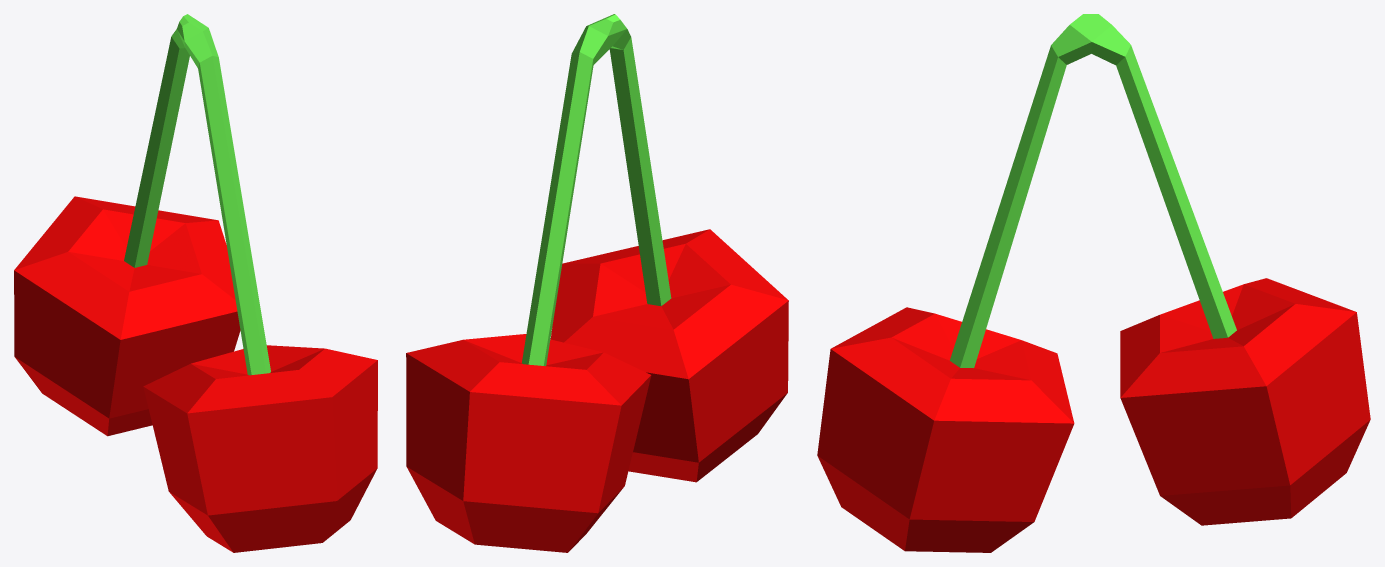
The model's file is cherry03.obj.
The picture shows the model from 3 angles, left to right: view 1: azimuth 30°, elevation 25°; view 2: azimuth 150°, elevation 25°; view 3: azimuth 270°, elevation 25°; orthographic projection. The views are drawn at different scales.
Visible parts, largest first — view 1: Cylinder_Cylinder.002; view 2: Cylinder_Cylinder.002; view 3: Cylinder_Cylinder.002.
Boxes of the visible parts, box(x1,y1,x2,y2) form: Cylinder_Cylinder.002: box(14, 14, 377, 552); Cylinder_Cylinder.002: box(406, 14, 788, 552); Cylinder_Cylinder.002: box(817, 14, 1370, 552).
Bounding box in the file's own units: 0.0265 × 0.0572 × 0.0558.
Materials: 1 (1 with a texture image).
